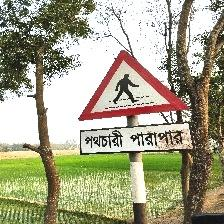Pedestrian-crossing: (77, 49, 192, 155)
